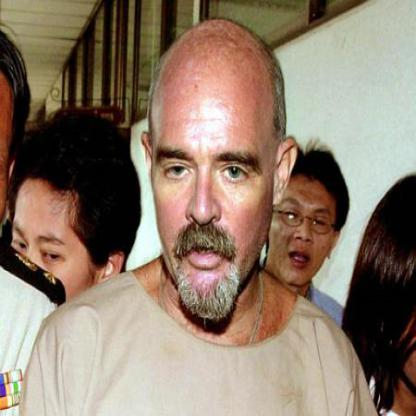face: (154, 26, 277, 317), (6, 140, 108, 353), (270, 156, 336, 288)
